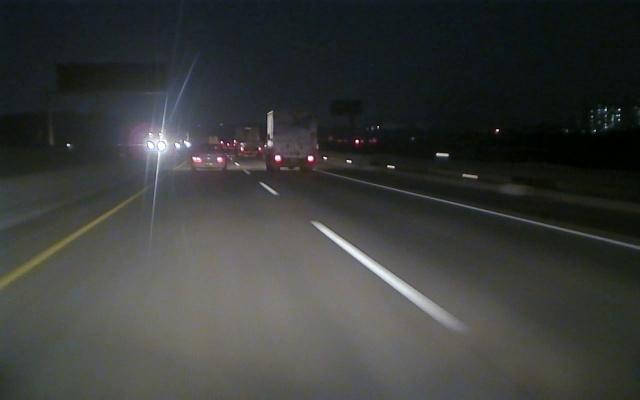lane: (260, 182, 474, 336), (318, 171, 637, 251), (1, 183, 154, 290)
